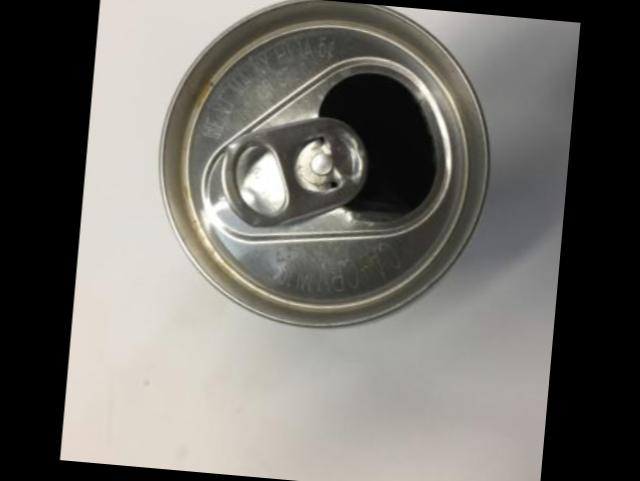metal: (158, 0, 486, 326)
